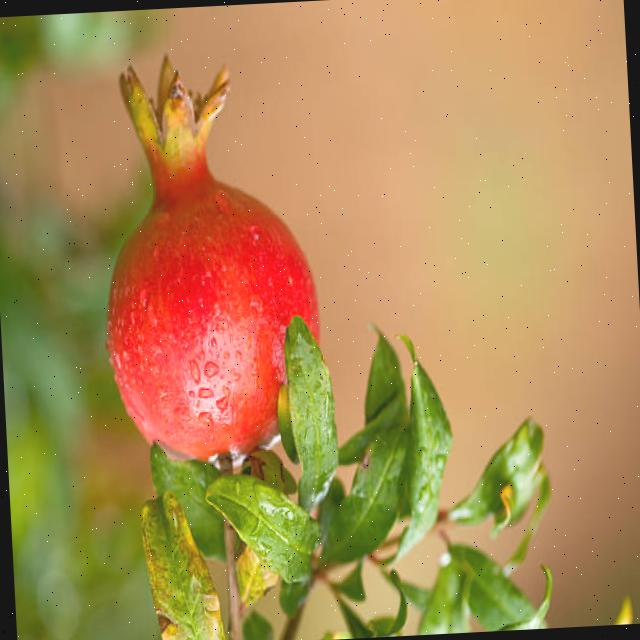Ripe: (88, 39, 330, 478)
